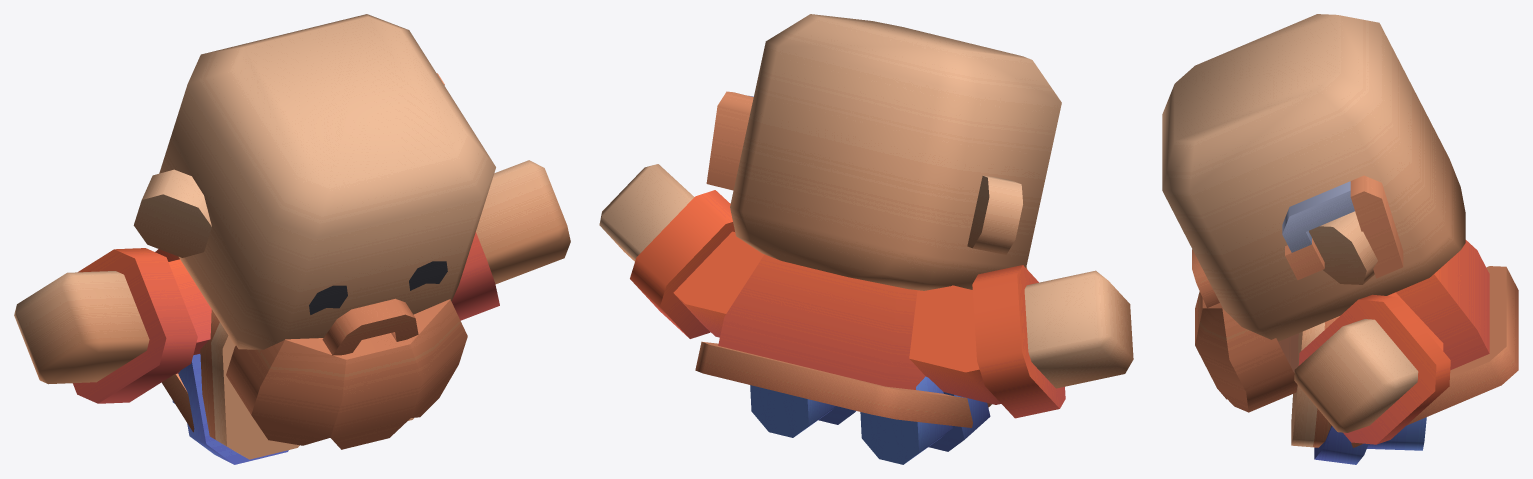
Rendered from character-male-b-crouch.glb.
The picture shows the model from 3 angles, left to right: view 1: azimuth 30°, elevation 25°; view 2: azimuth 150°, elevation 25°; view 3: azimuth 270°, elevation 25°; orthographic projection. The views are drawn at different scales.
Visible parts, largest first — view 1: character-male-b-crouch; view 2: character-male-b-crouch; view 3: character-male-b-crouch.
Boxes of the visible parts, <box> form: character-male-b-crouch: <box>14,14,570,464</box>; character-male-b-crouch: <box>599,14,1133,464</box>; character-male-b-crouch: <box>1162,14,1518,464</box>.
Bounding box in the file's own units: 0.7672 × 0.5659 × 0.4757.
Materials: 1 (1 with a texture image).
